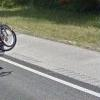Bicycle: (0, 18, 18, 66)
